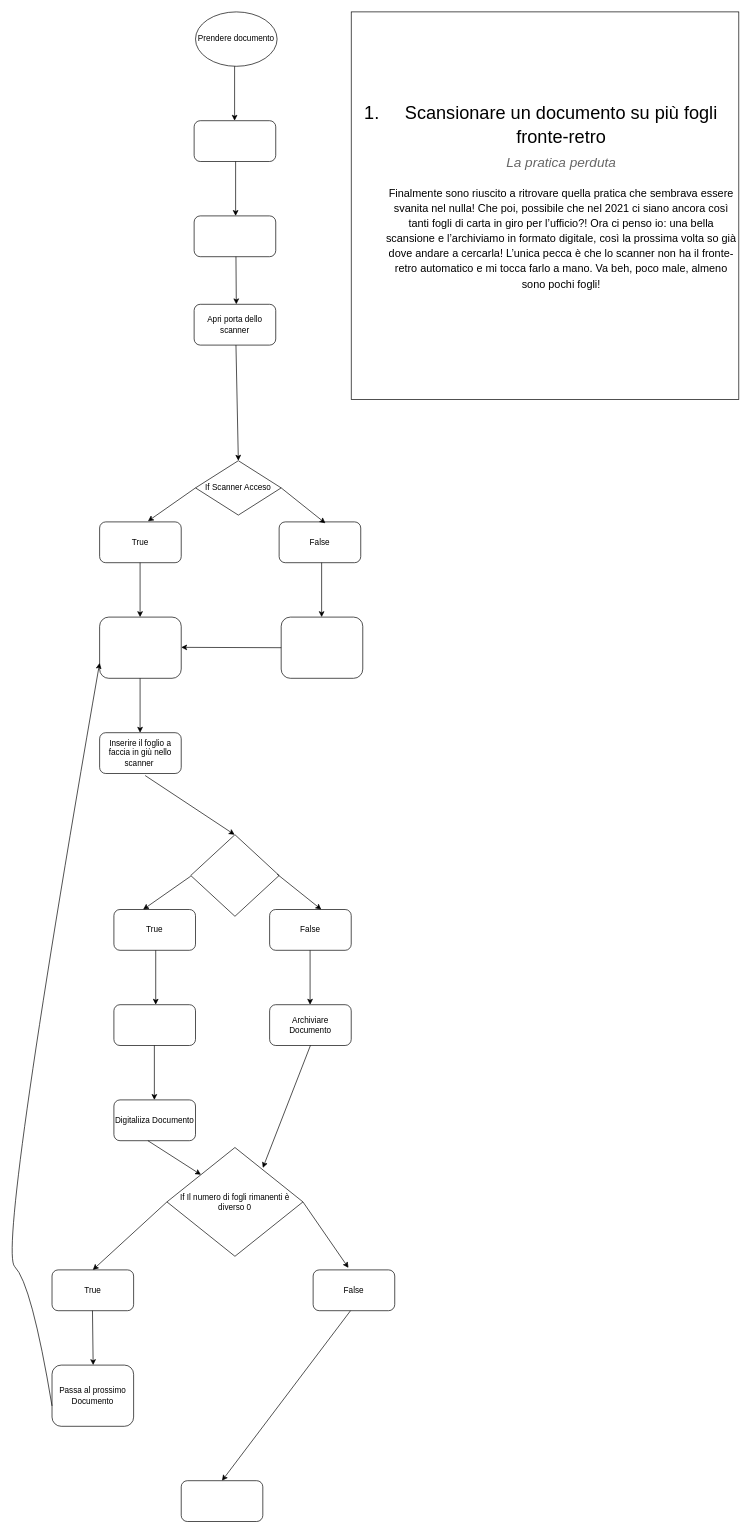
This 751x1533 diagram has some shape labels left out. The shapes that lost their labels are listed below. From the top down, each one's centre as x and y in pixels, then its label:
At point (234, 141): "Ordina Documenti".
At point (234, 236): "Creare Cartelle contenente Documenti sul PC".
At point (140, 647): "Scan-Foglio".
At point (321, 647): "Accendi Scanner".
At point (234, 875): "If foglio fronte e retro".
At point (154, 1025): "Gira il foglio".
At point (222, 1501): "Chiudi Scanner".
